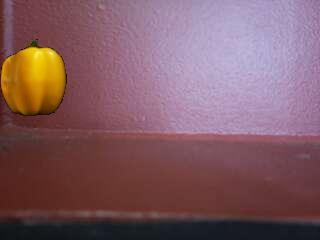Capsicum: (0, 37, 68, 118)
